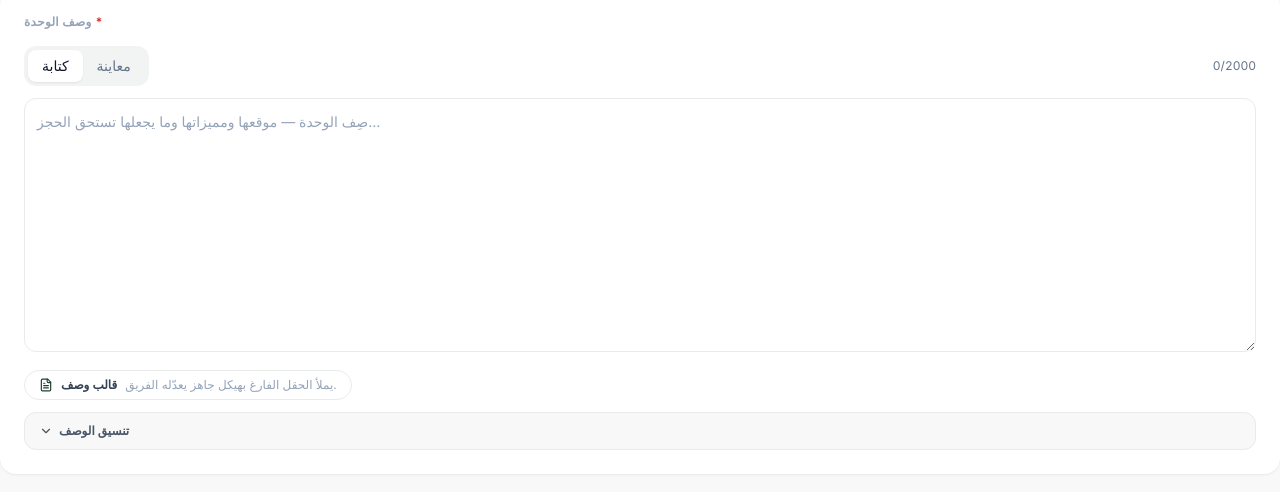
Test: DescriptionField › shows a placeholder in the preview rather than an empty box
The image size is (1280, 492).
Click the tab "معاينة": (114, 66) [83,50,145,82]
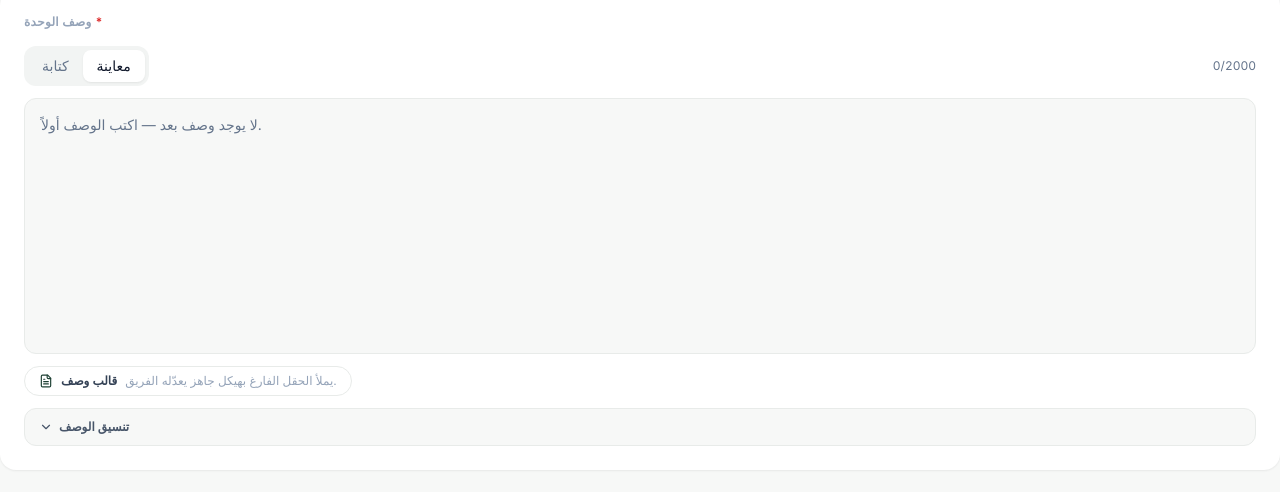
Expected: the text "لا يوجد وصف بعد — اكتب الوصف أولاً." is shown, [41,116,262,133]
